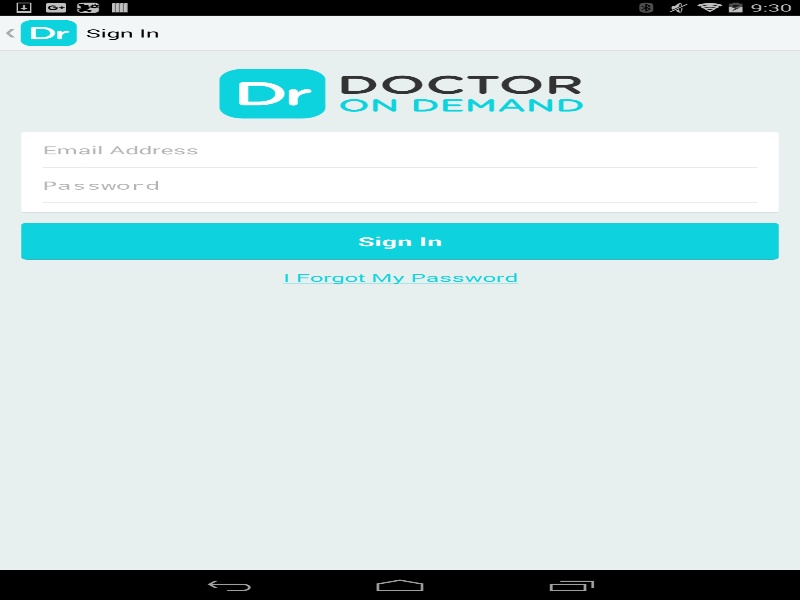Button: (21, 222, 778, 259)
Input: (42, 132, 757, 167), (42, 167, 757, 202)
